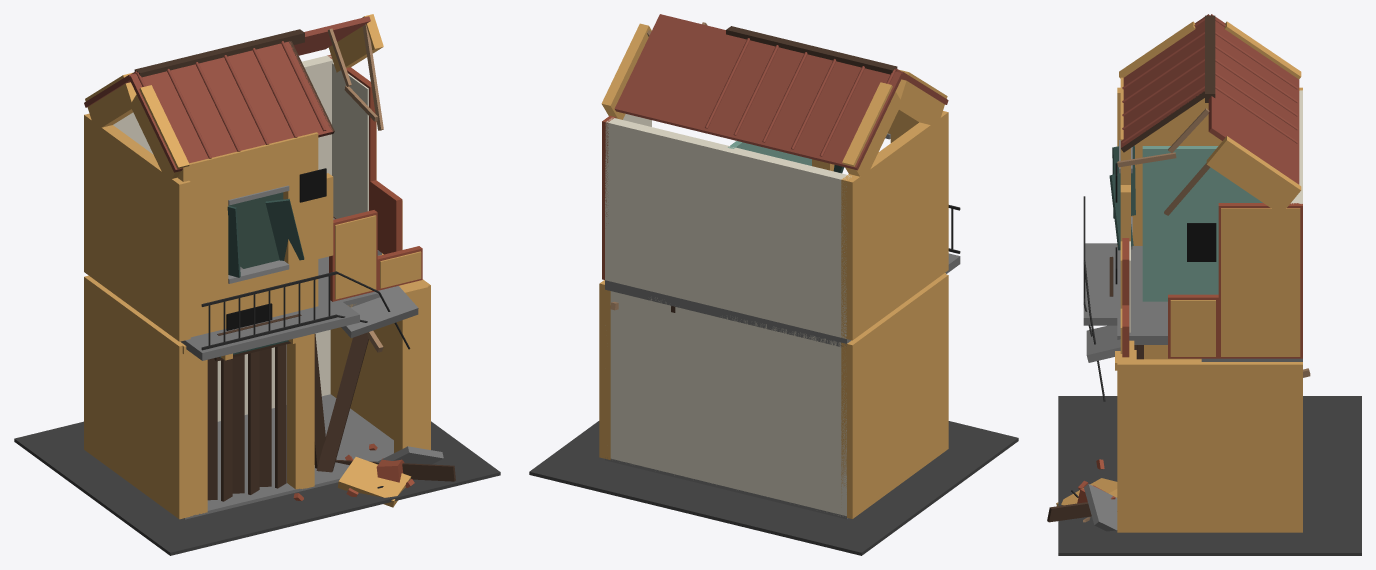
The model's file is shophouse-damaged.glb.
3 renders of one model, left to right at view 1: azimuth 30°, elevation 25°; view 2: azimuth 150°, elevation 25°; view 3: azimuth 270°, elevation 25°, orthographic. The views are drawn at different scales.
Visible parts, largest first — view 1: Mesh_SideWallRight_Bottom, Mesh_SideWallRight_Top, Mesh_GroundBase, Mesh_RoofFront_R, Mesh_FrontWall_R_Above, Mesh_SideWallLeft_Bottom, Mesh_ShopFloor, Mesh_SideWallLeft_Top_Inner_A, Mesh_FrontWall_R_Below, Mesh_FrontPillar_M, Mesh_FrontPillar_L, Mesh_BalconySlab_R (+35 smaller); view 2: Mesh_BackWall_Bottom, Mesh_BackWall_Top, Mesh_SideWallRight_Bottom, Mesh_GroundBase, Mesh_SideWallRight_Top, Mesh_RoofBack_R, Mesh_RoofBack_L, Mesh_GableRight_Back, Mesh_SideWallLeft_Bottom, Mesh_RoofRidgeBeam, Mesh_FloorSlab_Intact, Mesh_GableRight_Front (+4 smaller); view 3: Mesh_SideWallLeft_Bottom, Mesh_GroundBase, Mesh_SideWallLeft_Top_Outer_A, Mesh_PartitionWall, Mesh_RoofBack_R, Mesh_RoofFront_R, Mesh_RoofBack_L, Mesh_GableLeft_Back, Mesh_SideWallRight_Top, Mesh_BalconySlab_R, Mesh_SideWallLeft_Top_Outer_B, Mesh_SideWallLeft_Top_Core_A (+23 smaller).
Boxes of the visible parts, x1,y1,x2,y2 form: Mesh_SideWallRight_Bottom: (84,275,190,519); Mesh_SideWallRight_Top: (84,113,190,341); Mesh_GroundBase: (14,421,500,555); Mesh_RoofFront_R: (129,41,333,172); Mesh_FrontWall_R_Above: (178,132,318,211); Mesh_SideWallLeft_Bottom: (330,253,430,449); Mesh_ShopFloor: (183,394,393,519); Mesh_SideWallLeft_Top_Inner_A: (332,62,368,218); Mesh_FrontWall_R_Below: (190,259,318,337); Mesh_FrontPillar_M: (287,333,314,489); Mesh_FrontPillar_L: (394,284,425,452); Mesh_BalconySlab_R: (181,302,359,360); Mesh_BackWall_Bottom: (605,291,846,516); Mesh_BackWall_Top: (605,117,851,338); Mesh_SideWallRight_Bottom: (841,274,948,518); Mesh_GroundBase: (529,421,1018,555); Mesh_SideWallRight_Top: (841,111,948,340); Mesh_RoofBack_R: (698,38,902,170); Mesh_RoofBack_L: (614,14,740,131); Mesh_GableRight_Back: (842,82,901,176); Mesh_SideWallLeft_Bottom: (599,280,610,459); Mesh_RoofRidgeBeam: (726,26,897,74); Mesh_FloorSlab_Intact: (695,302,851,346); Mesh_GableRight_Front: (895,70,947,124); Mesh_SideWallLeft_Bottom: (1117,359,1302,532); Mesh_GroundBase: (1058,396,1361,555); Mesh_SideWallLeft_Top_Outer_A: (1221,208,1300,356); Mesh_PartitionWall: (1142,146,1262,301); Mesh_RoofBack_R: (1210,14,1299,147); Mesh_RoofFront_R: (1121,14,1209,147); Mesh_RoofBack_L: (1208,91,1299,184); Mesh_GableLeft_Back: (1206,136,1301,208); Mesh_SideWallRight_Top: (1117,87,1302,245); Mesh_BalconySlab_R: (1083,243,1120,325); Mesh_SideWallLeft_Top_Outer_B: (1170,300,1215,356); Mesh_SideWallLeft_Top_Core_A: (1218,203,1302,358).
Bounding box in the file's own units: 4.4 × 5.49 × 3.73.
